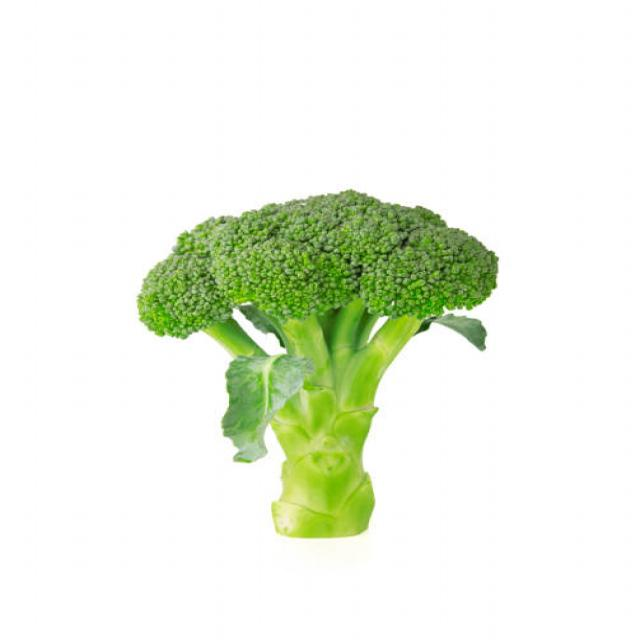Broccoli head: (100, 162, 617, 594)
